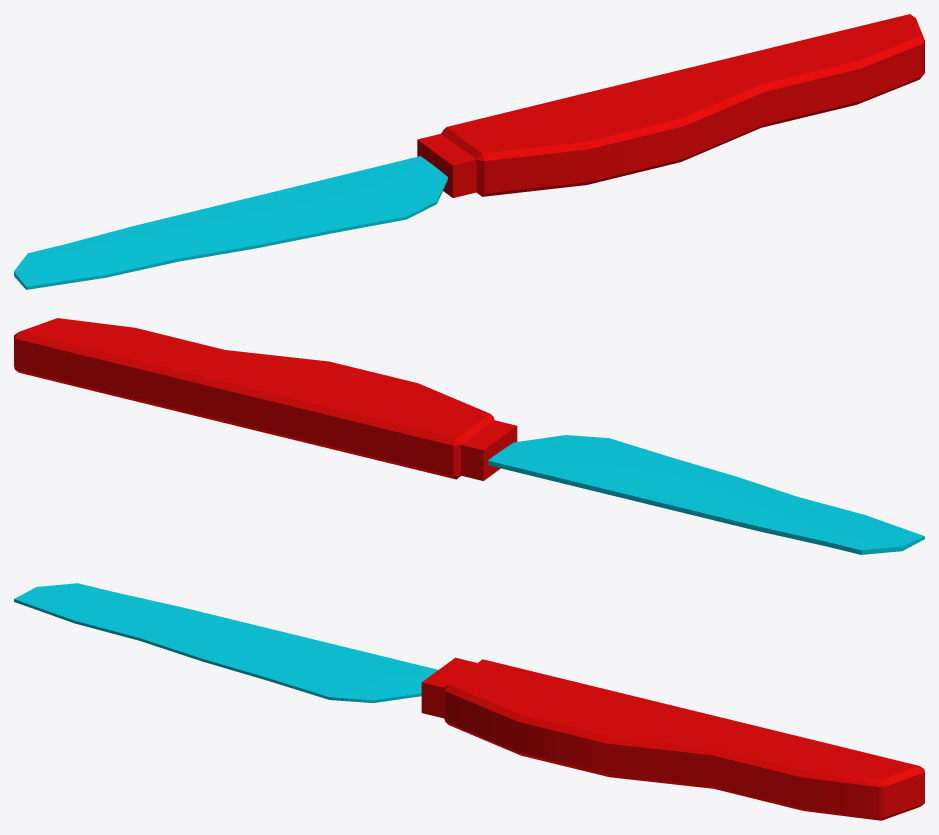
Rendered from Knife_1.fbx.
The picture shows the model from 3 angles, top to bottom: view 1: azimuth 30°, elevation 25°; view 2: azimuth 150°, elevation 25°; view 3: azimuth 330°, elevation 25°; orthographic projection. The views are drawn at different scales.
Visible parts, largest first — view 1: Knife_1; view 2: Knife_1; view 3: Knife_1.
Boxes of the visible parts, bbox=[...] form: Knife_1: bbox=[14, 14, 924, 289]; Knife_1: bbox=[14, 318, 924, 554]; Knife_1: bbox=[14, 583, 924, 820].
Size of the model in its own units: 195 by 8.7 by 23.42.
